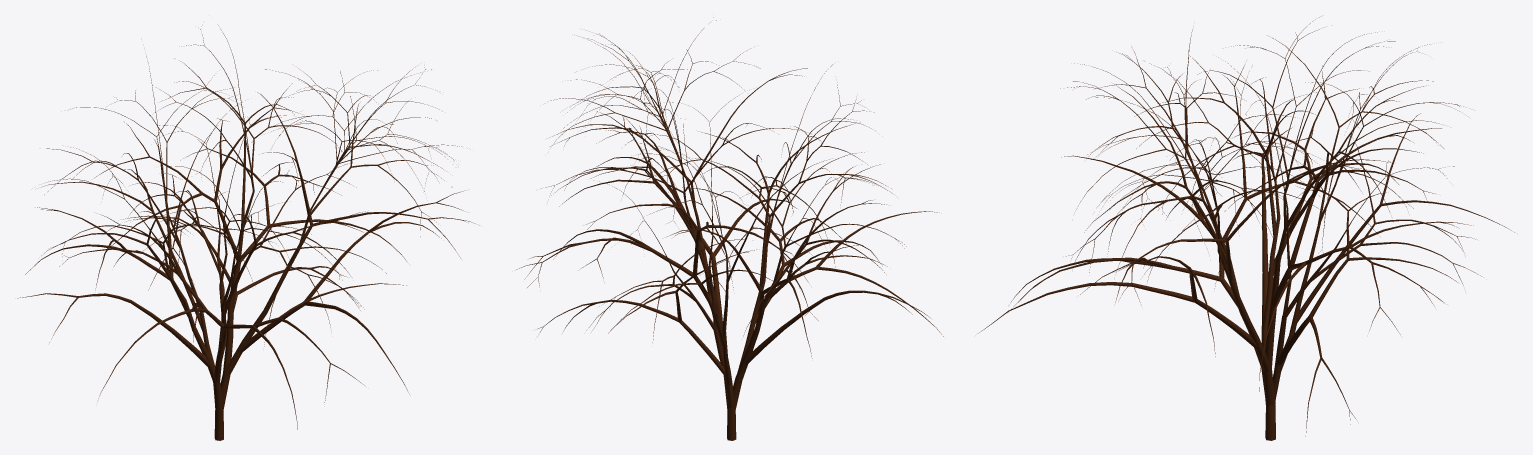
The picture shows the model from 3 angles, left to right: view 1: azimuth 30°, elevation 25°; view 2: azimuth 150°, elevation 25°; view 3: azimuth 270°, elevation 25°; orthographic projection. The views are drawn at different scales.
Parts seen in each view (by area): view 1: tree; view 2: tree; view 3: tree.
Boxes of the visible parts, <box> form: tree: <box>17,25,479,440</box>; tree: <box>516,17,943,440</box>; tree: <box>978,16,1514,440</box>.
Size of the model in its own units: 1768 by 1591 by 1829.
